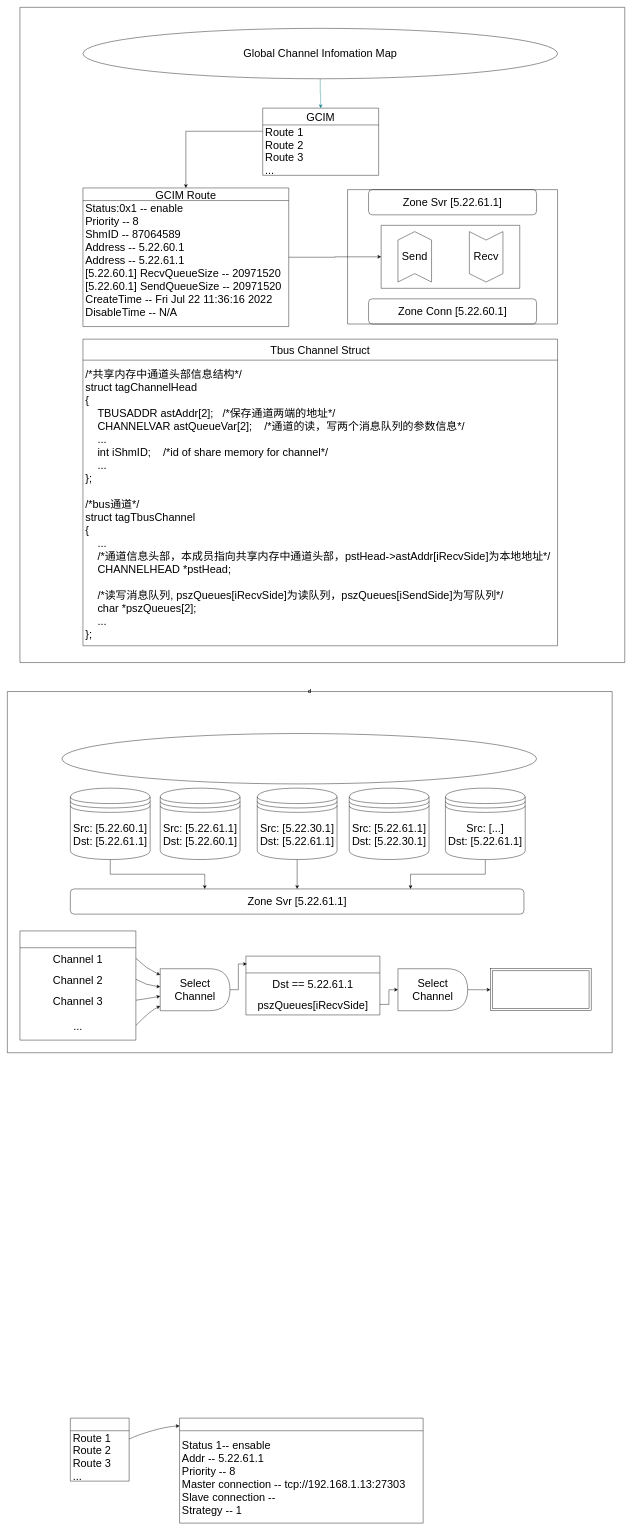
Some shapes in this 632 by 1530 pixel diagram are drawn without their labels. Here are the shapes that lost their labels. From the top down, the box of each, then its label:
(62, 733, 537, 784): Recv Msg From TBus Channel
(20, 931, 136, 1040): Channel Set
(245, 956, 380, 1015): Fst Match Channel
(490, 968, 591, 1011): Fst Msg Pkg
(70, 1418, 129, 1481): Relay
(179, 1418, 423, 1523): Relay Route
